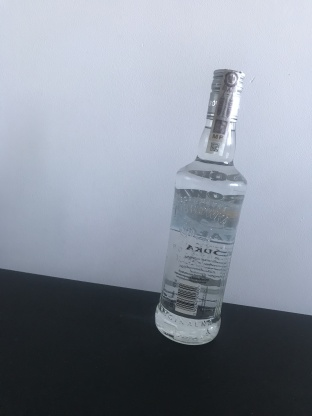nakretka: (203, 64, 247, 126)
